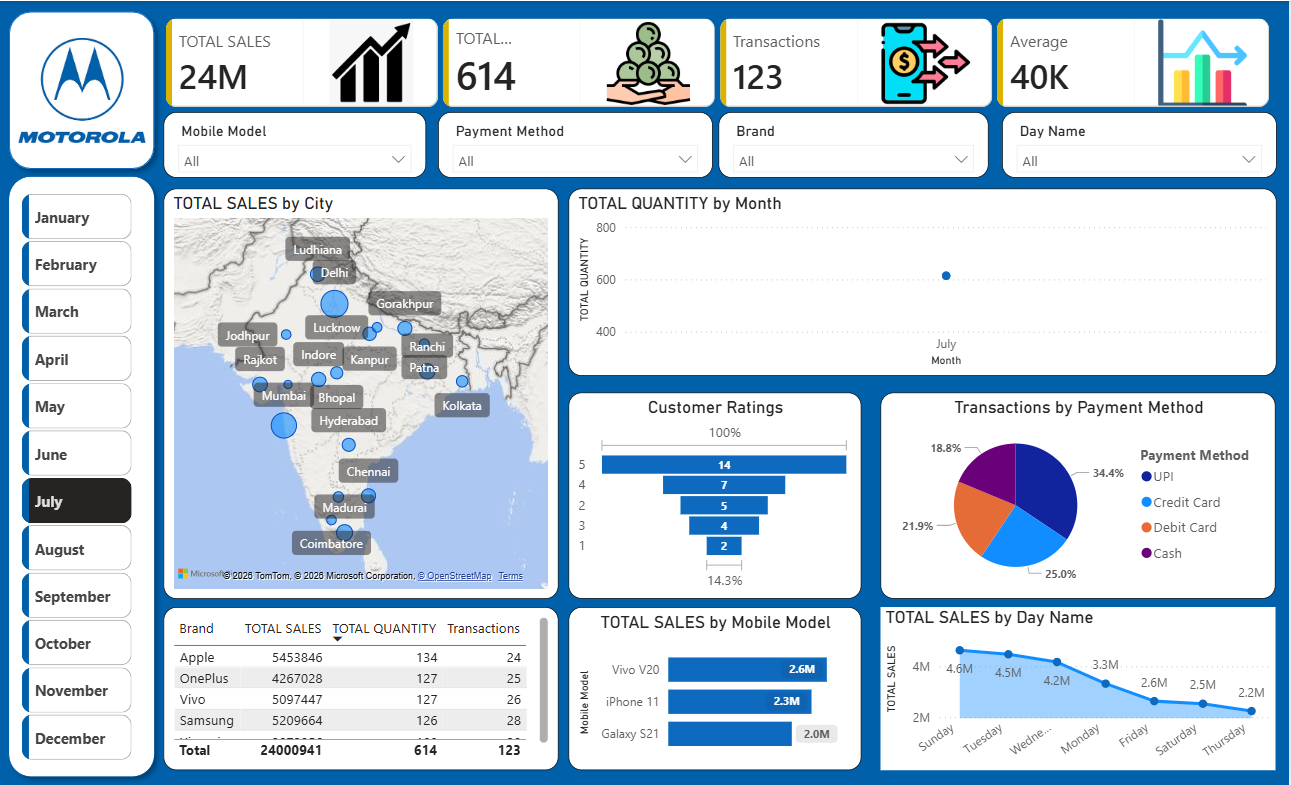

The dashboard page shown, as its layout file describes it:
{"tool":"powerbi","page":{"name":"Page 19","canvas":[1280,778],"ordinal":0},"visuals":[{"type":"shape","box":[0,1.5,162,174.1],"z":0},{"type":"image","box":[16.7,24.2,130.2,130.2],"z":1000},{"type":"shape","box":[0,165,162,613.3],"z":2000},{"type":"advancedSlicerVisual","fields":{"Values":["SALES DATA_.DATE.Variation.Date Hierarchy.Month"]},"box":[16.7,186.2,119.6,576.9],"z":3000},{"type":"cardVisual","fields":{"Data":["SALES DATA_.TOTAL SALES","SALES DATA_.TOTAL QUANTITY","SALES DATA_.Transactions","SALES DATA_.Average"]},"box":[146.9,0,1132.6,122.7],"z":4000},{"type":"map","fields":{"Category":["SALES DATA_.City"],"Size":["SALES DATA_.TOTAL SALES"]},"box":[162,186.2,392.2,407.3],"z":5000},{"type":"lineChart","fields":{"Y":["SALES DATA_.TOTAL QUANTITY"],"Category":["SALES DATA_.DATE.Variation.Date Hierarchy.Month","SALES DATA_.DATE.Variation.Date Hierarchy.Day"]},"box":[564.2,186.1,702.6,186.1],"z":6000},{"type":"clusteredBarChart","fields":{"Category":["SALES DATA_.Mobile Model"],"Y":["SALES DATA_.TOTAL SALES"]},"box":[564.8,601.1,290.7,162],"z":7000},{"type":"pieChart","fields":{"Category":["SALES DATA_.Payment Method"],"Y":["SALES DATA_.Transactions"]},"box":[873.7,389.2,392.2,204.4],"z":8000},{"type":"funnel","title":" Customer Ratings ","fields":{"Category":["SALES DATA_.Customer Ratings"],"Y":["CountNonNull(SALES DATA_.Customer Ratings)"]},"box":[564.8,389.2,290.7,204.4],"z":9000},{"type":"areaChart","fields":{"Category":["SALES DATA_.Day Name"],"Y":["SALES DATA_.TOTAL SALES"]},"box":[873.7,601.1,392.2,162],"z":10000},{"type":"tableEx","fields":{"Values":["SALES DATA_.Brand","SALES DATA_.TOTAL SALES","SALES DATA_.TOTAL QUANTITY","SALES DATA_.Transactions"]},"box":[162,601.1,392.2,162],"z":11000},{"type":"slicer","fields":{"Values":["SALES DATA_.Mobile Model"]},"box":[162,110.5,260.4,65.1],"z":12000},{"type":"slicer","fields":{"Values":["SALES DATA_.Payment Method"]},"box":[434.6,110.5,272.6,65.1],"z":13000},{"type":"slicer","fields":{"Values":["SALES DATA_.Brand"]},"box":[713.2,110.5,268,65.1],"z":14000},{"type":"slicer","fields":{"Values":["SALES DATA_.Day Name"]},"box":[994.4,110.2,272.4,65.5],"z":15000}]}

Visuals, with their boxes in screenshot pixels (x1, y1, x2, y2), scaled from the page's 1280x778 canvas onto the 1291x785 screenshot:
shape: [x1=0, y1=2, x2=163, y2=177]
image: [x1=17, y1=24, x2=148, y2=156]
shape: [x1=0, y1=166, x2=163, y2=784]
advancedSlicerVisual - SALES DATA_.DATE.Variation.Date Hierarchy.Month: [x1=17, y1=188, x2=137, y2=770]
cardVisual - SALES DATA_.TOTAL SALES x SALES DATA_.TOTAL QUANTITY: [x1=148, y1=0, x2=1290, y2=124]
map - SALES DATA_.City x SALES DATA_.TOTAL SALES: [x1=163, y1=188, x2=559, y2=599]
lineChart - SALES DATA_.TOTAL QUANTITY x SALES DATA_.DATE.Variation.Date Hierarchy.Month: [x1=569, y1=188, x2=1278, y2=376]
clusteredBarChart - SALES DATA_.Mobile Model x SALES DATA_.TOTAL SALES: [x1=570, y1=607, x2=863, y2=770]
pieChart - SALES DATA_.Payment Method x SALES DATA_.Transactions: [x1=881, y1=393, x2=1277, y2=599]
" Customer Ratings " funnel: [x1=570, y1=393, x2=863, y2=599]
areaChart - SALES DATA_.Day Name x SALES DATA_.TOTAL SALES: [x1=881, y1=607, x2=1277, y2=770]
tableEx - SALES DATA_.Brand x SALES DATA_.TOTAL SALES: [x1=163, y1=607, x2=559, y2=770]
slicer - SALES DATA_.Mobile Model: [x1=163, y1=111, x2=426, y2=177]
slicer - SALES DATA_.Payment Method: [x1=438, y1=111, x2=713, y2=177]
slicer - SALES DATA_.Brand: [x1=719, y1=111, x2=990, y2=177]
slicer - SALES DATA_.Day Name: [x1=1003, y1=111, x2=1278, y2=177]
